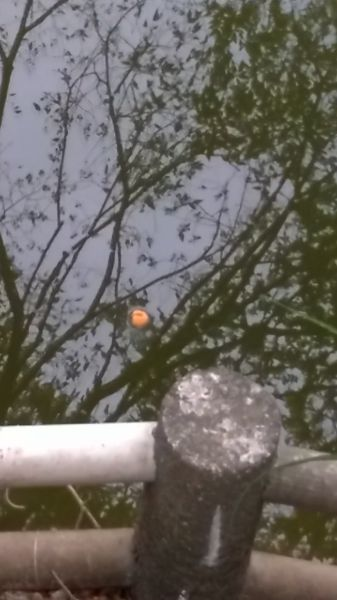eggs: (125, 304, 155, 332)
